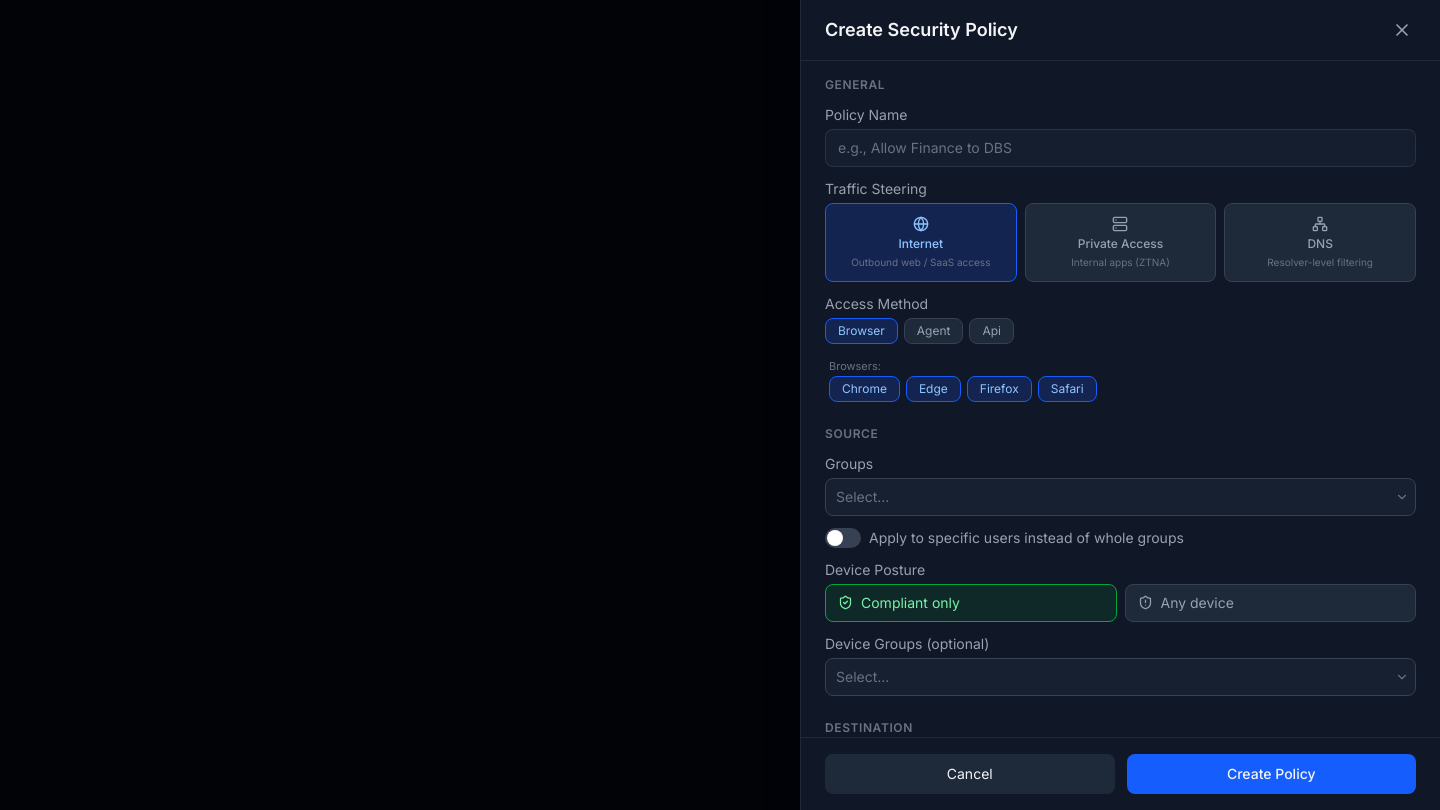
PolicyEditor — steering-driven slim wizard › compliance gate blocks Save when an allow policy admits non-compliant devices
This screenshot has width=1440, height=810.
Expected: the button "Create Policy" is enabled, [1126,754,1416,794]
Note: Switch posture to "Any device" ⇒ gate blocks Save.
Click the button "Any device". click: click(1197, 602)
box: [1124,584,1416,622]
(page scrolled)
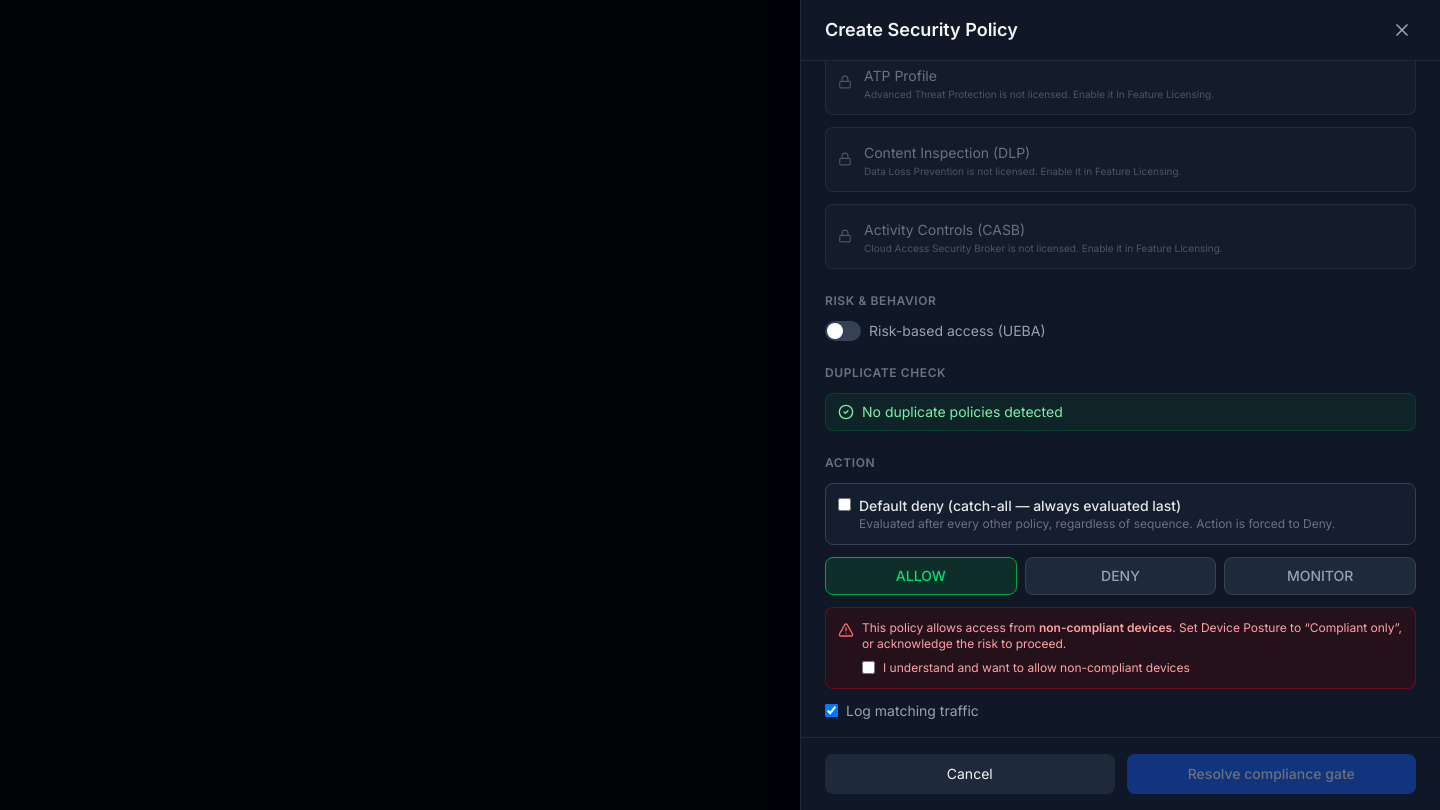
Expected: the button "Resolve compliance gate" is disabled, [1126,754,1416,794]
Note: Acknowledge the risk ⇒ Save re-enabled.
Click the checkbox labelled "I understand and want to allow non-compliant devices". click: click(868, 668)
box: [862,661,875,674]
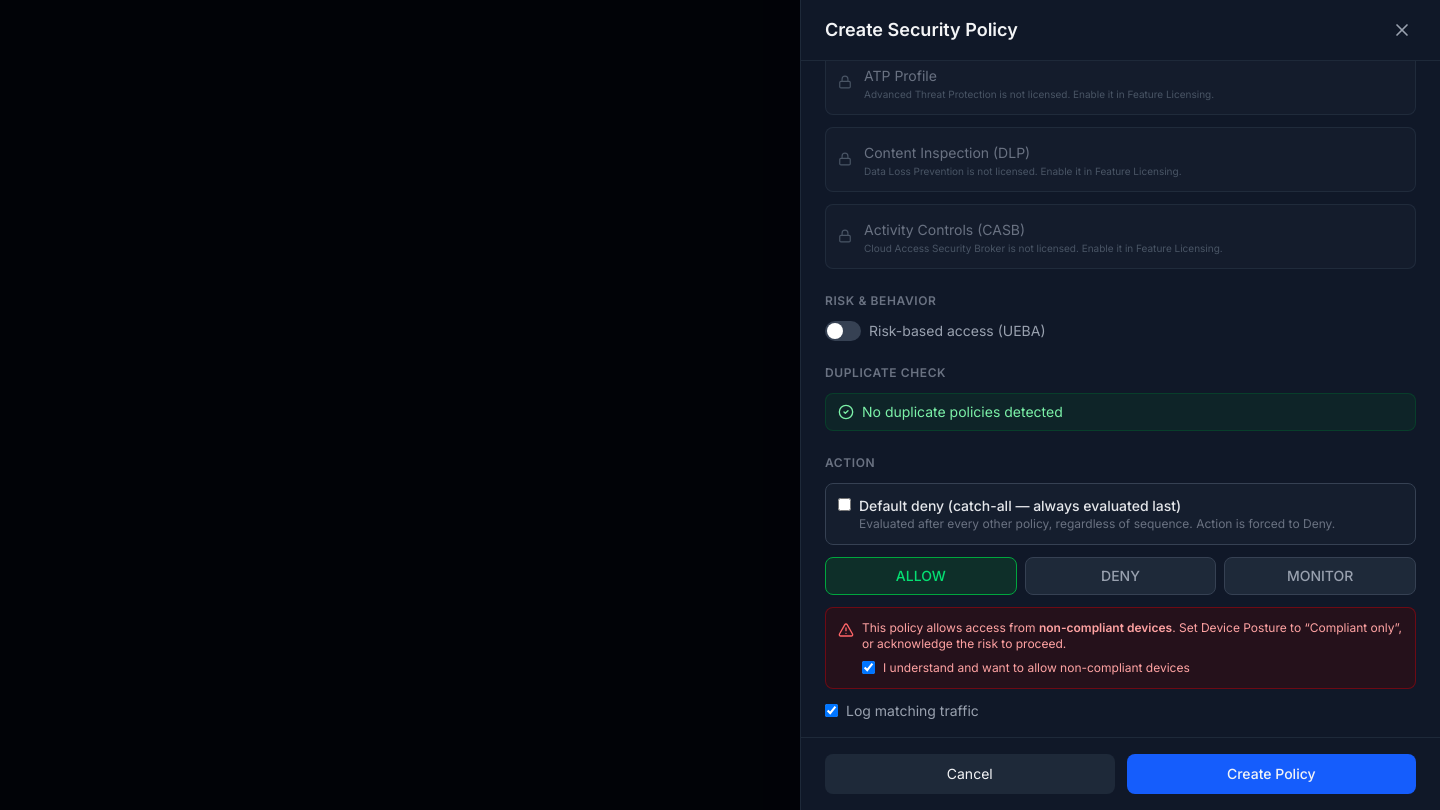
Expected: the button "Create Policy" is enabled, [1126,754,1416,794]
